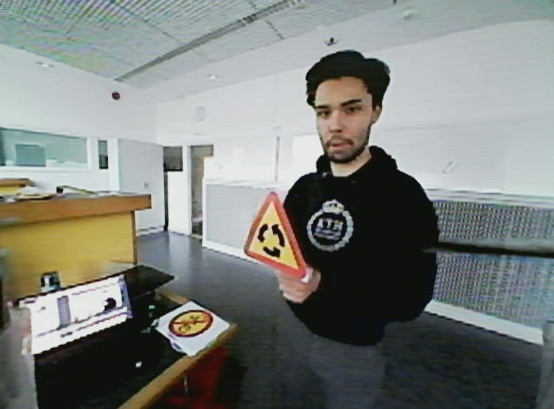roundabout_warning: (242, 188, 304, 287)
